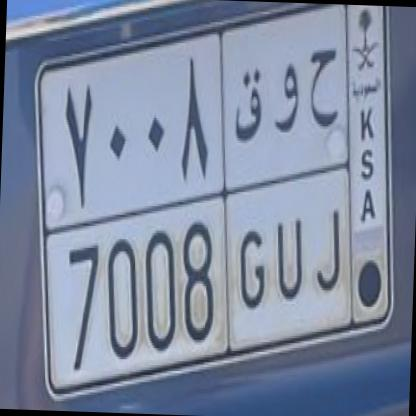english: (24, 180, 346, 388)
